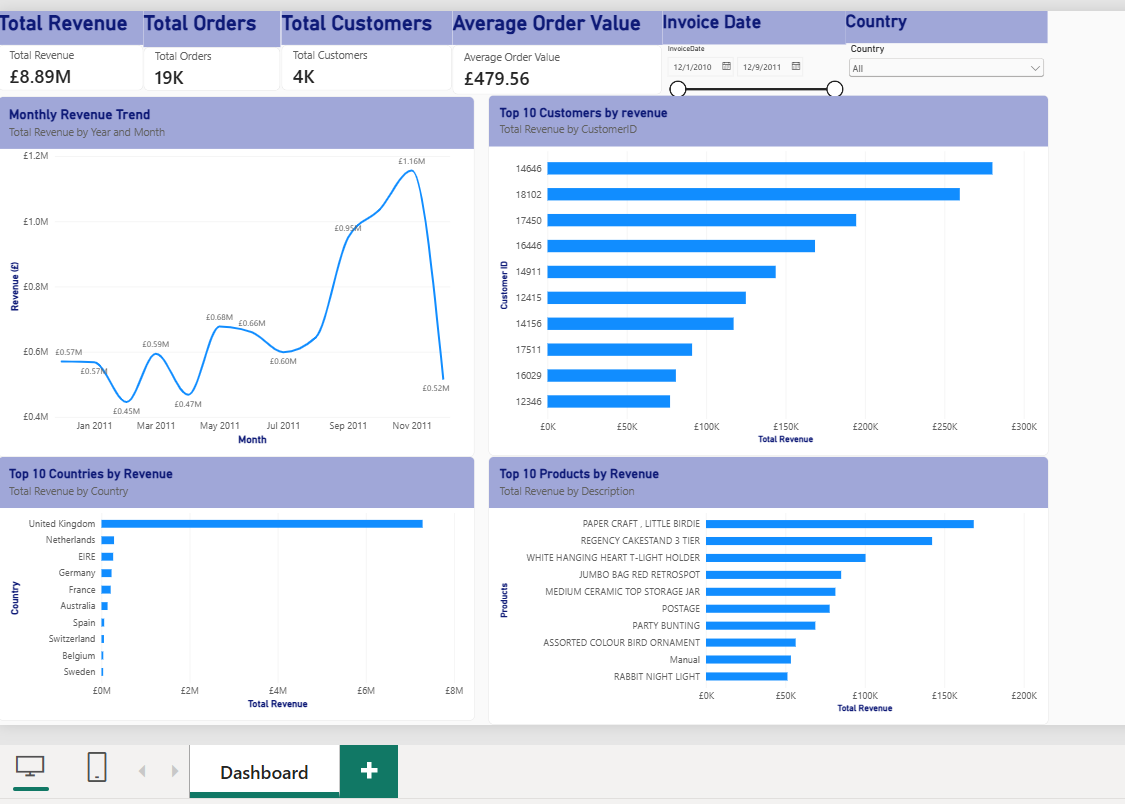

This screenshot's page, from the dashboard's own definition file:
{"tool":"powerbi","page":{"name":"Dashboard","canvas":[1920,1080],"ordinal":0},"visuals":[{"type":"lineChart","title":"Monthly Revenue Trend","fields":{"Category":["Cleaned_Data.InvoiceDate.Variation.Date Hierarchy.Year","Cleaned_Data.InvoiceDate.Variation.Date Hierarchy.Month"],"Y":["Cleaned_Data.Total Revenue"]},"box":[0,128.6,721.4,545.7],"z":0},{"type":"clusteredBarChart","title":"Top 10 Countries by Revenue","fields":{"Category":["Cleaned_Data.Country"],"Y":["Cleaned_Data.Total Revenue"]},"box":[0,674,722,400],"z":1},{"type":"clusteredBarChart","title":"Top 10 Products by Revenue","fields":{"Category":["Cleaned_Data.Description"],"Y":["Cleaned_Data.Total Revenue"]},"box":[742,674,848,406],"z":2},{"type":"clusteredBarChart","title":"Top 10 Customers by revenue","fields":{"Category":["Cleaned_Data.CustomerID"],"Y":["Cleaned_Data.Total Revenue"]},"box":[742,128,848,546],"z":3},{"type":"cardVisual","title":"Total Revenue","fields":{"Data":["Cleaned_Data.Total Revenue"]},"box":[0,0,221.4,121.4],"z":4},{"type":"cardVisual","title":"Total Orders","fields":{"Data":["Cleaned_Data.Total Orders"]},"box":[221.4,0,207.1,121.4],"z":5},{"type":"cardVisual","title":"Total Customers","fields":{"Data":["Cleaned_Data.Total Customers"]},"box":[428.6,0,260,121.4],"z":6},{"type":"cardVisual","title":"Average Order Value","fields":{"Data":["Cleaned_Data.Average Order Value"]},"box":[688.6,0,318.6,121.4],"z":7},{"type":"slicer","title":"Invoice Date","fields":{"Values":["Cleaned_Data.InvoiceDate"]},"box":[1007.1,0,277.1,128.6],"z":8},{"type":"slicer","title":"Country","fields":{"Values":["Cleaned_Data.Country"]},"box":[1284.3,0,305.7,128.6],"z":9}]}

Visuals, with their boxes on the page's 1920x1080 design canvas (x1, y1, x2, y2). These are canvas units, not pixel positions in the 1125x804 screenshot, which may show the page scaled, cropped or inside an application window:
"Monthly Revenue Trend" lineChart: box(0, 129, 721, 674)
"Top 10 Countries by Revenue" clusteredBarChart: box(0, 674, 722, 1074)
"Top 10 Products by Revenue" clusteredBarChart: box(742, 674, 1590, 1080)
"Top 10 Customers by revenue" clusteredBarChart: box(742, 128, 1590, 674)
"Total Revenue" cardVisual: box(0, 0, 221, 121)
"Total Orders" cardVisual: box(221, 0, 428, 121)
"Total Customers" cardVisual: box(429, 0, 689, 121)
"Average Order Value" cardVisual: box(689, 0, 1007, 121)
"Invoice Date" slicer: box(1007, 0, 1284, 129)
"Country" slicer: box(1284, 0, 1590, 129)
